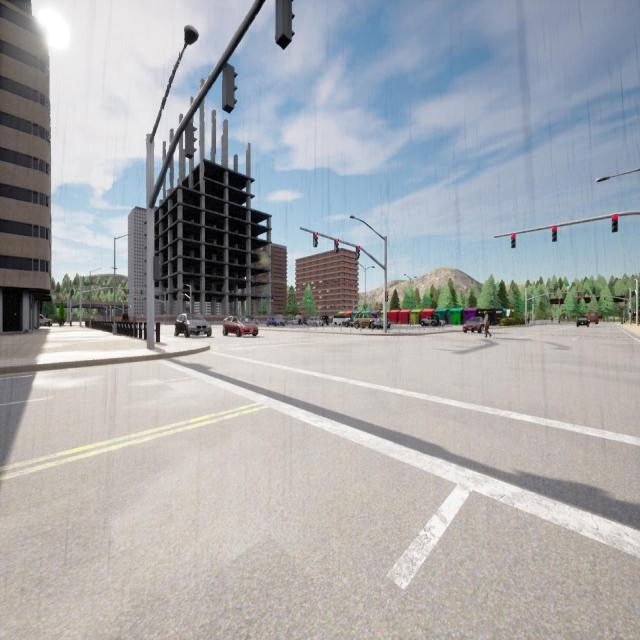Pedestrian: (484, 310, 491, 338), (122, 310, 128, 322), (527, 316, 530, 325)
Traffic_Signs: (565, 317, 567, 319)
Vehicle: (175, 314, 211, 336), (222, 316, 258, 336), (463, 316, 483, 332), (353, 314, 374, 328), (371, 318, 390, 329), (421, 315, 438, 327), (332, 315, 350, 326), (267, 318, 284, 326), (307, 318, 322, 327), (40, 314, 51, 326), (588, 311, 598, 324), (576, 317, 588, 327), (293, 316, 304, 325), (320, 316, 329, 325), (345, 320, 353, 327)
traffic_light: (276, 0, 295, 50), (222, 64, 238, 114), (185, 124, 197, 159), (154, 256, 160, 280), (612, 214, 618, 232), (552, 227, 557, 240), (511, 233, 515, 248), (314, 233, 318, 247), (356, 246, 360, 259), (335, 239, 338, 252), (385, 291, 388, 302), (589, 296, 592, 299), (124, 296, 126, 300), (629, 309, 631, 313), (134, 297, 136, 300), (164, 310, 166, 313), (604, 297, 606, 300), (578, 296, 580, 299)
